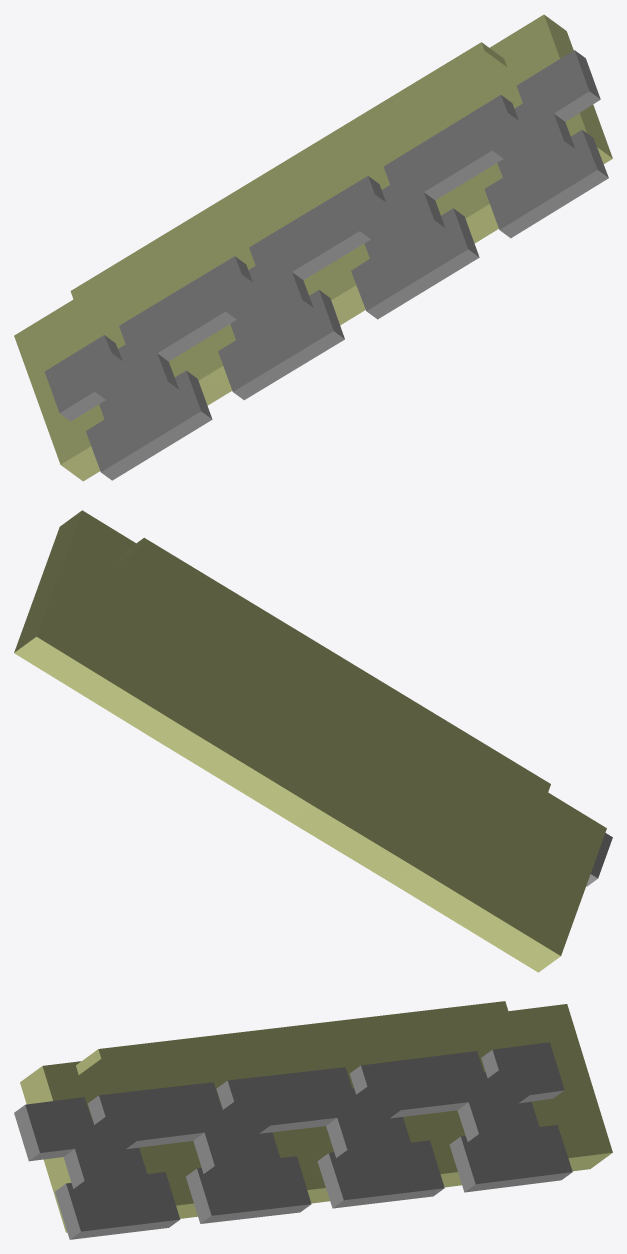
3 views of the same model, one above another, from view 1: azimuth 30°, elevation 25°; view 2: azimuth 150°, elevation 25°; view 3: azimuth 330°, elevation 25° (orthographic).
Visible parts, largest first — view 1: 0_1_3_2_1_2_3_1; view 2: 0_1_3_2_1_2_3_1; view 3: 0_1_3_2_1_2_3_1.
Part boxes in pixels (<box>): 0_1_3_2_1_2_3_1: <box>14,14,612,481</box>; 0_1_3_2_1_2_3_1: <box>14,510,612,972</box>; 0_1_3_2_1_2_3_1: <box>14,1001,612,1239</box>.
Bounding box in the file's own units: 87.7 × 48.35 × 9.32.
